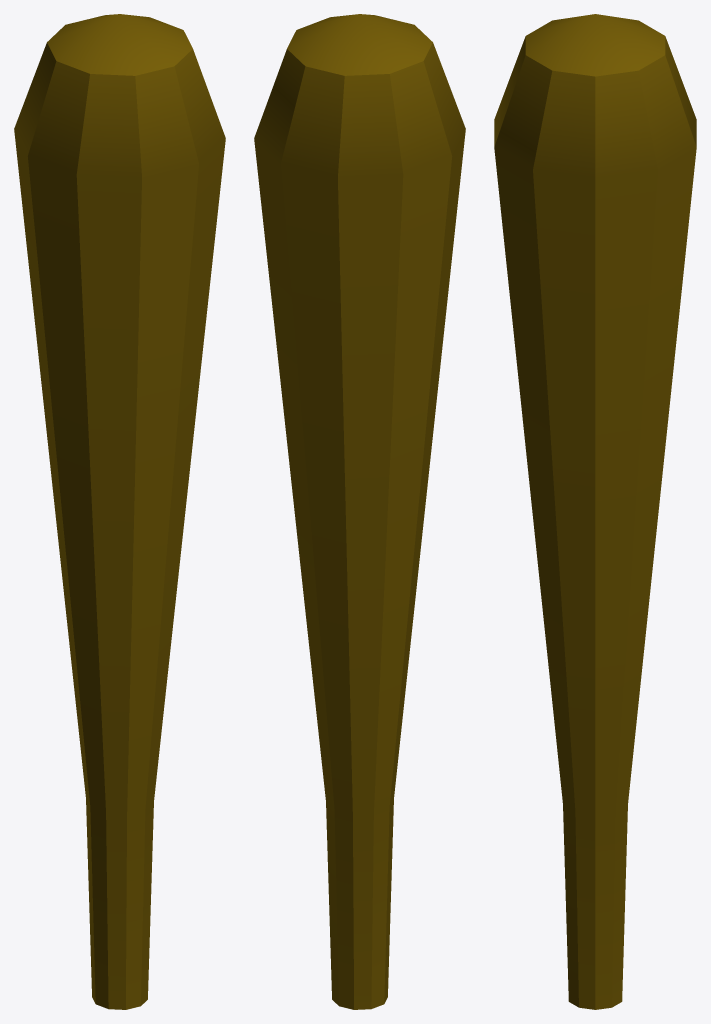
Rendered from massue.fbx.
3 views of the same model, side by side, from view 1: azimuth 30°, elevation 25°; view 2: azimuth 150°, elevation 25°; view 3: azimuth 270°, elevation 25° (orthographic).
Parts seen in each view (by area): view 1: massue; view 2: massue; view 3: massue.
Part boxes in pixels (x1=…): massue: x1=14, y1=14, x2=225, y2=1009; massue: x1=254, y1=14, x2=465, y2=1009; massue: x1=494, y1=14, x2=696, y2=1009.
Bounding box in the file's own units: 25.81 × 132 × 24.55.
